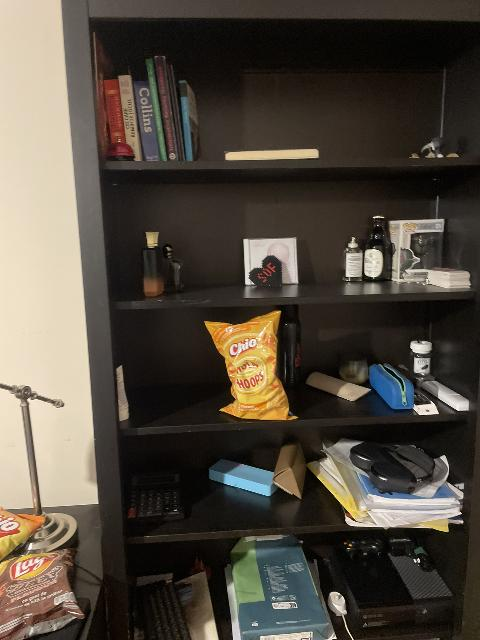Chio Cascaval 125g: (0, 506, 45, 569)
Chio Hula Hoops Cheese 70g: (204, 312, 294, 421)
Lays Beef Grilled Ribs 125g: (1, 546, 85, 639)
